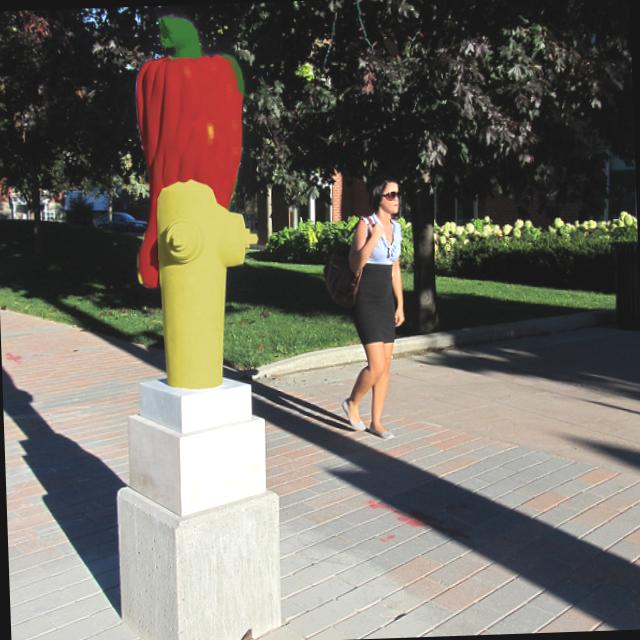Vehicle: (94, 212, 146, 234)
